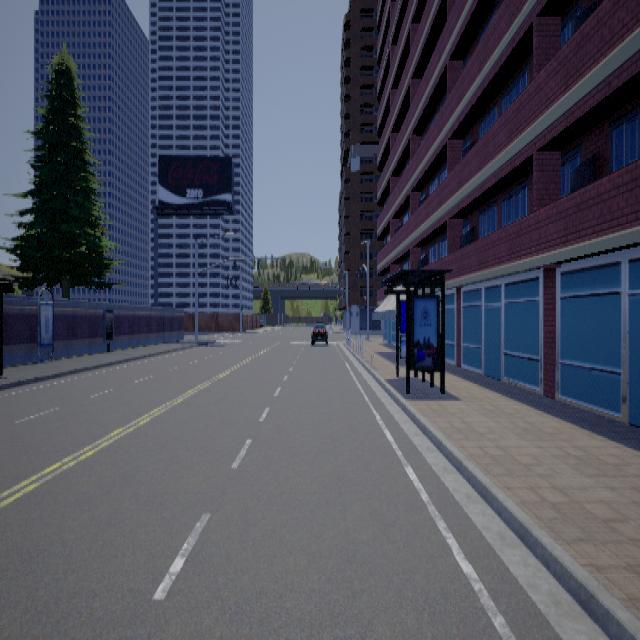vehicle: (309, 318, 329, 344)
